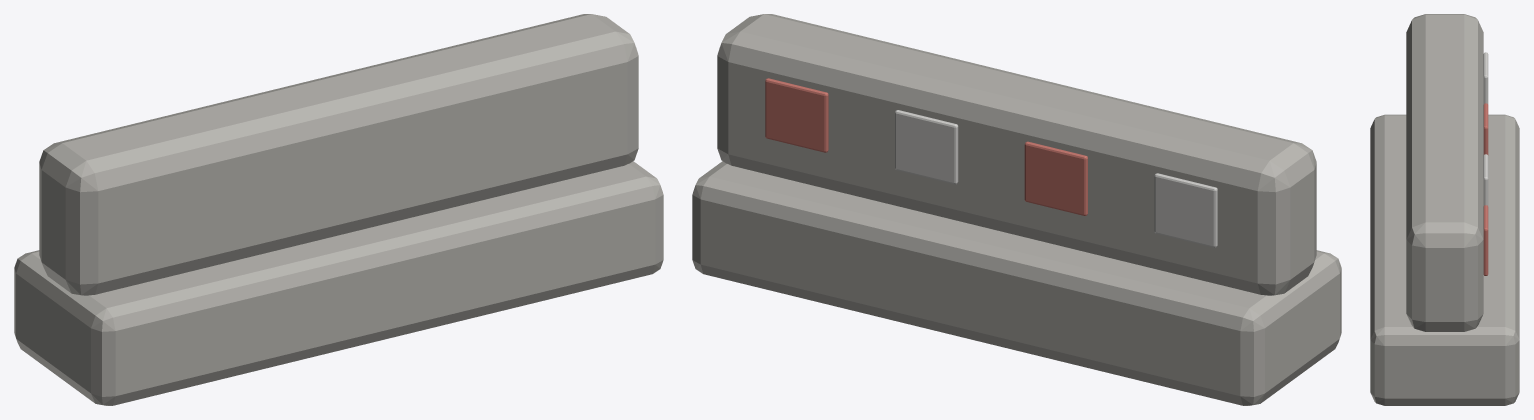
File: barrier.glb
The picture shows the model from 3 angles, left to right: view 1: azimuth 30°, elevation 25°; view 2: azimuth 150°, elevation 25°; view 3: azimuth 270°, elevation 25°; orthographic projection. The views are drawn at different scales.
Parts seen in each view (by area): view 1: barrier_Palette; view 2: barrier_Palette; view 3: barrier_Palette.
Boxes of the visible parts, box(x1,y1,x2,y2) form: barrier_Palette: box(14, 14, 663, 405); barrier_Palette: box(692, 14, 1341, 405); barrier_Palette: box(1370, 14, 1519, 405).
Size of the model in its own units: 2.2 by 0.83 by 0.62.
